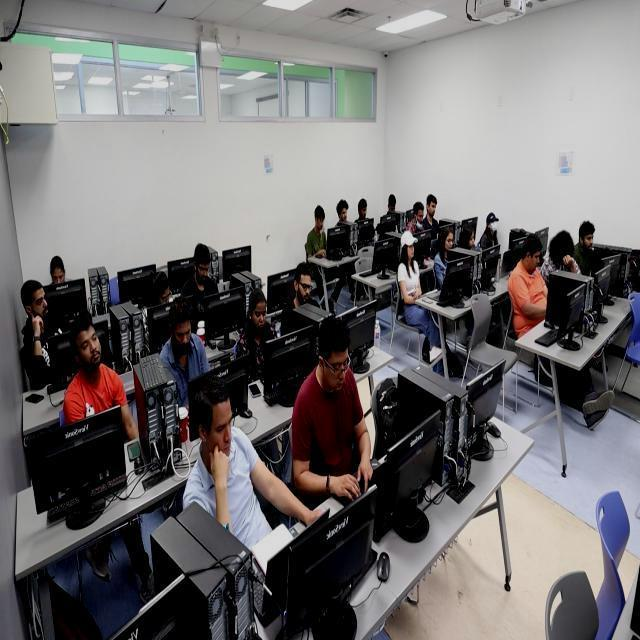Looking away: (210, 395, 233, 458), (324, 344, 350, 392), (172, 314, 192, 354), (251, 297, 267, 333), (296, 274, 312, 305), (194, 258, 211, 284), (156, 282, 171, 309), (51, 264, 66, 288), (528, 247, 542, 272), (466, 230, 476, 250)
Looking forward: (77, 324, 103, 369), (30, 284, 49, 323), (583, 232, 594, 253), (444, 232, 454, 251), (426, 199, 436, 217), (406, 240, 415, 260)
